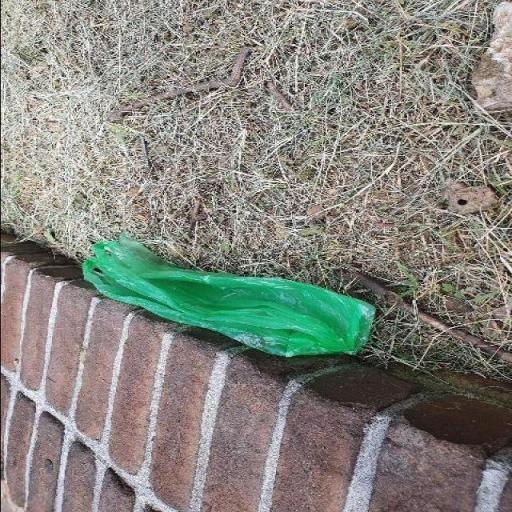polythene: (83, 235, 374, 356)
